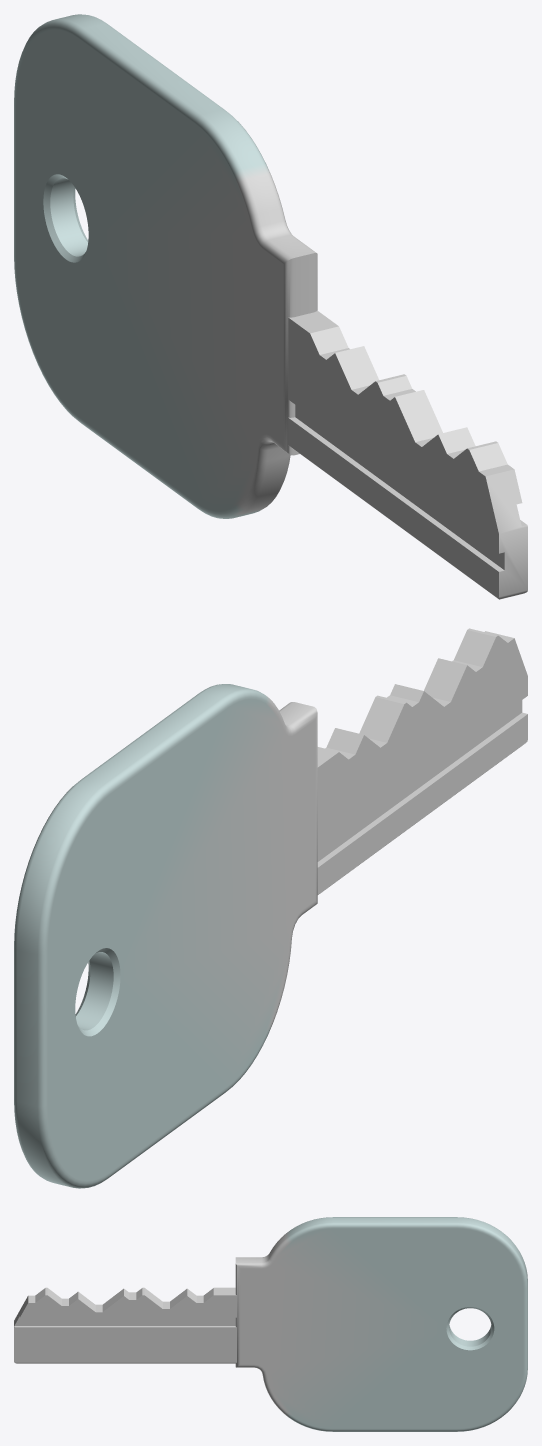
The model's file is Kit_Key_Zone_Nickel.fbx.
3 views of the same model, one above another, from view 1: azimuth 30°, elevation 25°; view 2: azimuth 150°, elevation 25°; view 3: azimuth 270°, elevation 25° (orthographic). The views are drawn at different scales.
Visible parts, largest first — view 1: Kit_Key_Zone_LOD0; view 2: Kit_Key_Zone_LOD0; view 3: Kit_Key_Zone_LOD0.
Part boxes in pixels (left/top/right/bottom): Kit_Key_Zone_LOD0: left=14, top=14, right=527, bottom=599; Kit_Key_Zone_LOD0: left=14, top=628, right=527, bottom=1188; Kit_Key_Zone_LOD0: left=14, top=1217, right=527, bottom=1431.
Size of what is drawn, in the model's own units: 0.0022 by 0.026 by 0.058.
